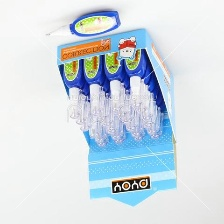book: (54, 24, 180, 209)
correction_fluid: (41, 6, 122, 39), (88, 44, 115, 130), (81, 37, 108, 121), (106, 49, 134, 126), (122, 36, 149, 113), (101, 36, 127, 115), (125, 48, 152, 121), (142, 70, 169, 142), (69, 54, 94, 129), (61, 46, 86, 120), (133, 56, 156, 130), (141, 64, 163, 136)
